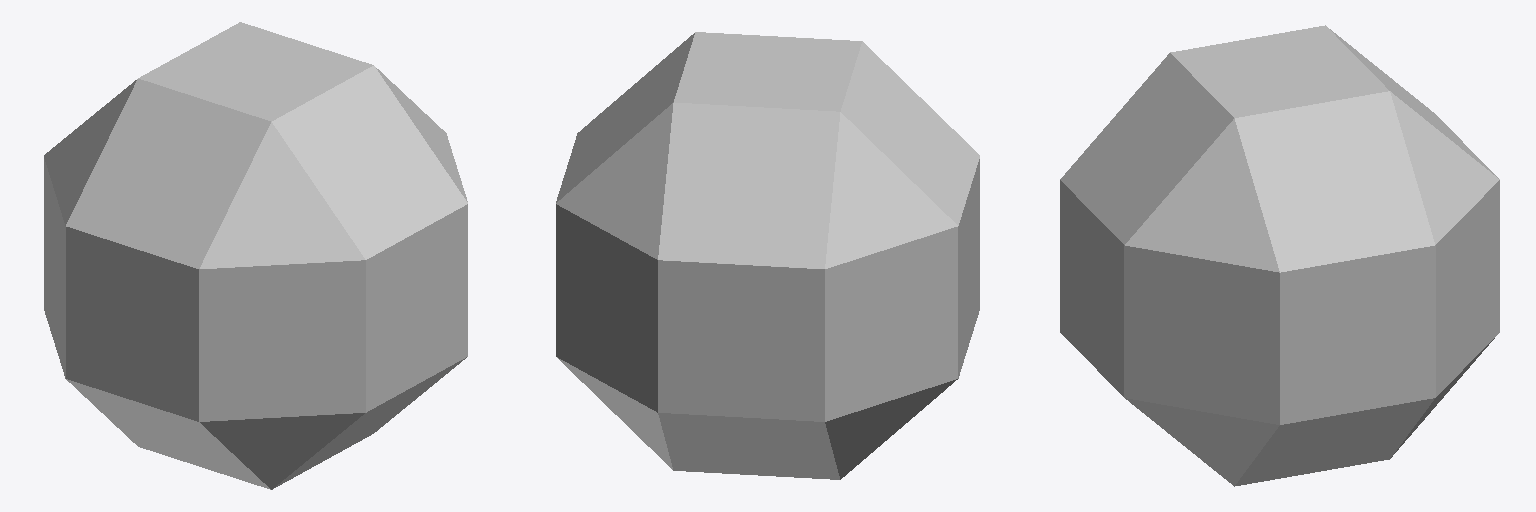
Rendered from rhombicuboctahedron.obj.
The picture shows the model from 3 angles: view 1: azimuth 30°, elevation 25°; view 2: azimuth 150°, elevation 25°; view 3: azimuth 270°, elevation 25°; orthographic projection.
Parts seen in each view (by area): view 1: Mesh1_Model.001; view 2: Mesh1_Model.001; view 3: Mesh1_Model.001.
Part boxes in pixels (left/top/right/bottom): Mesh1_Model.001: left=44, top=22, right=467, bottom=489; Mesh1_Model.001: left=556, top=32, right=979, bottom=479; Mesh1_Model.001: left=1060, top=25, right=1499, bottom=486.
Size of the model in its own units: 2 by 1.85 by 2.